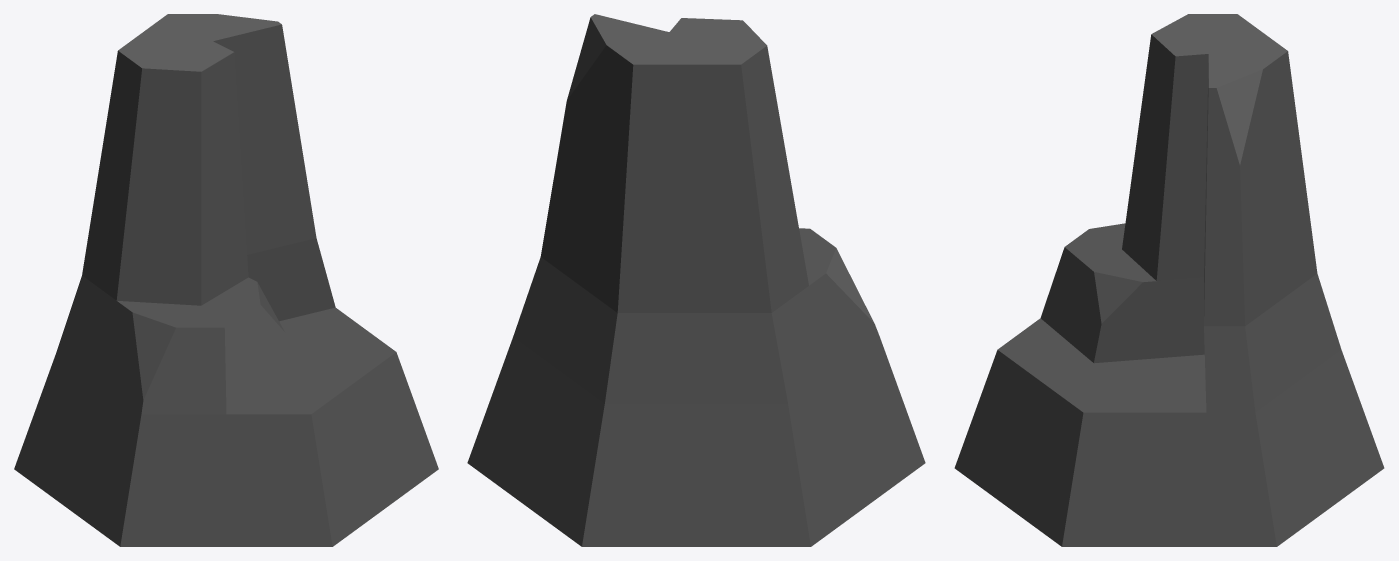
Rendered from stoneOre3.fbx.
The picture shows the model from 3 angles, left to right: view 1: azimuth 30°, elevation 25°; view 2: azimuth 150°, elevation 25°; view 3: azimuth 270°, elevation 25°; orthographic projection. The views are drawn at different scales.
Visible parts, largest first — view 1: stone_tallH; view 2: stone_tallH; view 3: stone_tallH.
Part boxes in pixels (x1,y1,x2,y2): stone_tallH: [14, 14, 438, 546]; stone_tallH: [467, 14, 925, 546]; stone_tallH: [954, 14, 1384, 546].
Size of the model in its own units: 1.88 by 2.33 by 2.18.
